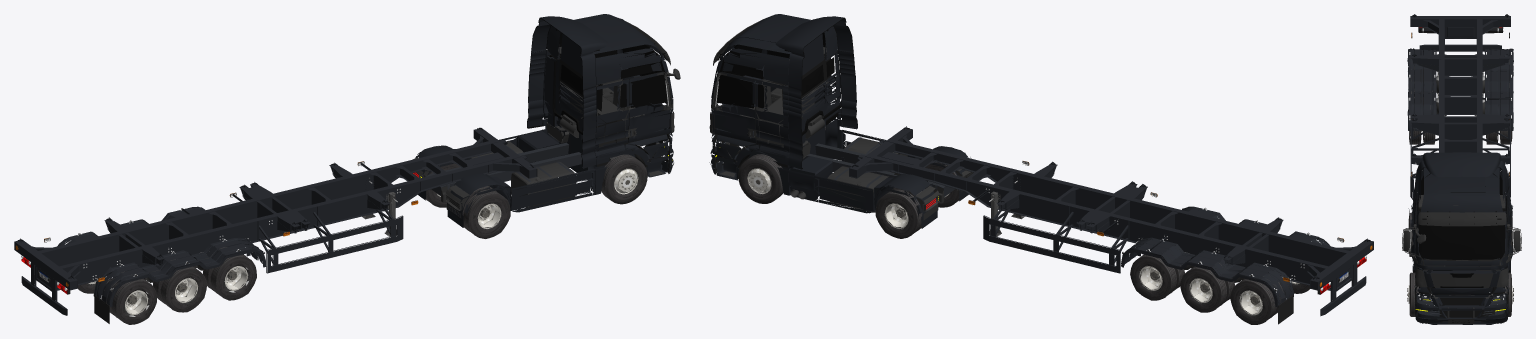
The model's file is truck_m.glb.
The picture shows the model from 3 angles, left to right: view 1: azimuth 30°, elevation 25°; view 2: azimuth 150°, elevation 25°; view 3: azimuth 270°, elevation 25°; orthographic projection. The views are drawn at different scales.
Visible parts, largest first — view 1: Object_39, d75ac7d3-ea99-4386-8004-2b8b4d77a8ed.001_Grey_0, Object_38, d75ac7d3-ea99-4386-8004-2b8b4d77a8ed.015_Grey_0, d75ac7d3-ea99-4386-8004-2b8b4d77a8ed.011_Grey_0, d75ac7d3-ea99-4386-8004-2b8b4d77a8ed_dark_0, Object_42, d75ac7d3-ea99-4386-8004-2b8b4d77a8ed.012_Grey_0, d75ac7d3-ea99-4386-8004-2b8b4d77a8ed.003_Material_0, Object_41, WHEEL_10, d75ac7d3-ea99-4386-8004-2b8b4d77a8ed.015_Back Trailor_0 (+7 smaller); view 2: Object_39, d75ac7d3-ea99-4386-8004-2b8b4d77a8ed.001_Grey_0, Object_41, d75ac7d3-ea99-4386-8004-2b8b4d77a8ed.015_Grey_0, d75ac7d3-ea99-4386-8004-2b8b4d77a8ed.011_Grey_0, d75ac7d3-ea99-4386-8004-2b8b4d77a8ed_dark_0, Object_42, d75ac7d3-ea99-4386-8004-2b8b4d77a8ed.003_Material_0, d75ac7d3-ea99-4386-8004-2b8b4d77a8ed.012_Grey_0, Object_38, WHEEL_10, d75ac7d3-ea99-4386-8004-2b8b4d77a8ed.015_Back Trailor_0 (+6 smaller); view 3: d75ac7d3-ea99-4386-8004-2b8b4d77a8ed.001_Grey_0, Object_39, Object_42, d75ac7d3-ea99-4386-8004-2b8b4d77a8ed.003_Material_0, Object_38, Object_41, d75ac7d3-ea99-4386-8004-2b8b4d77a8ed.011_Grey_0, d75ac7d3-ea99-4386-8004-2b8b4d77a8ed.010_dark_0, d75ac7d3-ea99-4386-8004-2b8b4d77a8ed.004_dark_0, d75ac7d3-ea99-4386-8004-2b8b4d77a8ed.008_Darker Most_0, d75ac7d3-ea99-4386-8004-2b8b4d77a8ed.009_dark_0, d75ac7d3-ea99-4386-8004-2b8b4d77a8ed_dark_0 (+13 smaller).
Boxes of the visible parts, box(x1,y1,x2,y2) form: Object_39: box(34, 139, 520, 290); d75ac7d3-ea99-4386-8004-2b8b4d77a8ed.001_Grey_0: box(542, 14, 673, 194); Object_38: box(82, 148, 537, 306); d75ac7d3-ea99-4386-8004-2b8b4d77a8ed.015_Grey_0: box(415, 129, 595, 227); d75ac7d3-ea99-4386-8004-2b8b4d77a8ed.011_Grey_0: box(527, 16, 608, 168); d75ac7d3-ea99-4386-8004-2b8b4d77a8ed_dark_0: box(412, 46, 664, 218); Object_42: box(14, 152, 504, 315); d75ac7d3-ea99-4386-8004-2b8b4d77a8ed.012_Grey_0: box(544, 55, 667, 176); d75ac7d3-ea99-4386-8004-2b8b4d77a8ed.003_Material_0: box(558, 32, 667, 107); Object_41: box(57, 127, 508, 246); WHEEL_10: box(426, 163, 510, 238); d75ac7d3-ea99-4386-8004-2b8b4d77a8ed.015_Back Trailor_0: box(425, 142, 581, 206); Object_39: box(865, 138, 1349, 290); d75ac7d3-ea99-4386-8004-2b8b4d77a8ed.001_Grey_0: box(709, 14, 842, 195); Object_41: box(849, 148, 1293, 307); d75ac7d3-ea99-4386-8004-2b8b4d77a8ed.015_Grey_0: box(788, 130, 970, 228); d75ac7d3-ea99-4386-8004-2b8b4d77a8ed.011_Grey_0: box(775, 16, 857, 169); d75ac7d3-ea99-4386-8004-2b8b4d77a8ed_dark_0: box(720, 47, 970, 219); Object_42: box(882, 152, 1373, 316); d75ac7d3-ea99-4386-8004-2b8b4d77a8ed.003_Material_0: box(716, 32, 826, 108); d75ac7d3-ea99-4386-8004-2b8b4d77a8ed.012_Grey_0: box(716, 52, 840, 177); Object_38: box(849, 126, 1330, 280); WHEEL_10: box(875, 162, 959, 238); d75ac7d3-ea99-4386-8004-2b8b4d77a8ed.015_Back Trailor_0: box(802, 137, 954, 213); d75ac7d3-ea99-4386-8004-2b8b4d77a8ed.001_Grey_0: box(1412, 167, 1510, 324); Object_39: box(1411, 19, 1482, 152); Object_42: box(1410, 14, 1512, 174); d75ac7d3-ea99-4386-8004-2b8b4d77a8ed.003_Material_0: box(1415, 173, 1507, 259); Object_38: box(1407, 48, 1510, 228); Object_41: box(1480, 48, 1513, 197); d75ac7d3-ea99-4386-8004-2b8b4d77a8ed.011_Grey_0: box(1411, 152, 1512, 258); d75ac7d3-ea99-4386-8004-2b8b4d77a8ed.010_dark_0: box(1418, 212, 1506, 226); d75ac7d3-ea99-4386-8004-2b8b4d77a8ed.004_dark_0: box(1402, 224, 1521, 318); d75ac7d3-ea99-4386-8004-2b8b4d77a8ed.008_Darker Most_0: box(1419, 287, 1504, 317); d75ac7d3-ea99-4386-8004-2b8b4d77a8ed.009_dark_0: box(1430, 273, 1493, 287); d75ac7d3-ea99-4386-8004-2b8b4d77a8ed_dark_0: box(1415, 195, 1505, 323).
Size of the model in its own units: 16.22 by 4.06 by 3.
41 materials, 12 textured.
